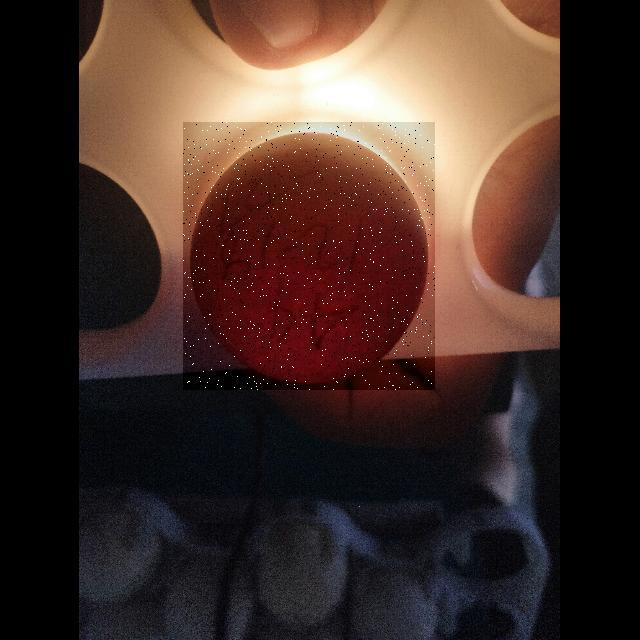Infertile: (183, 122, 435, 390)
